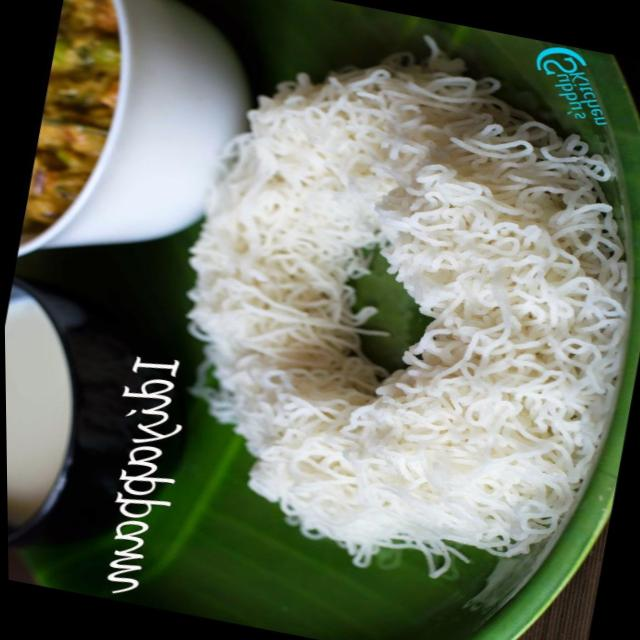CURRY: (23, 0, 123, 241)
IDIYAPPAM: (183, 39, 626, 582)
